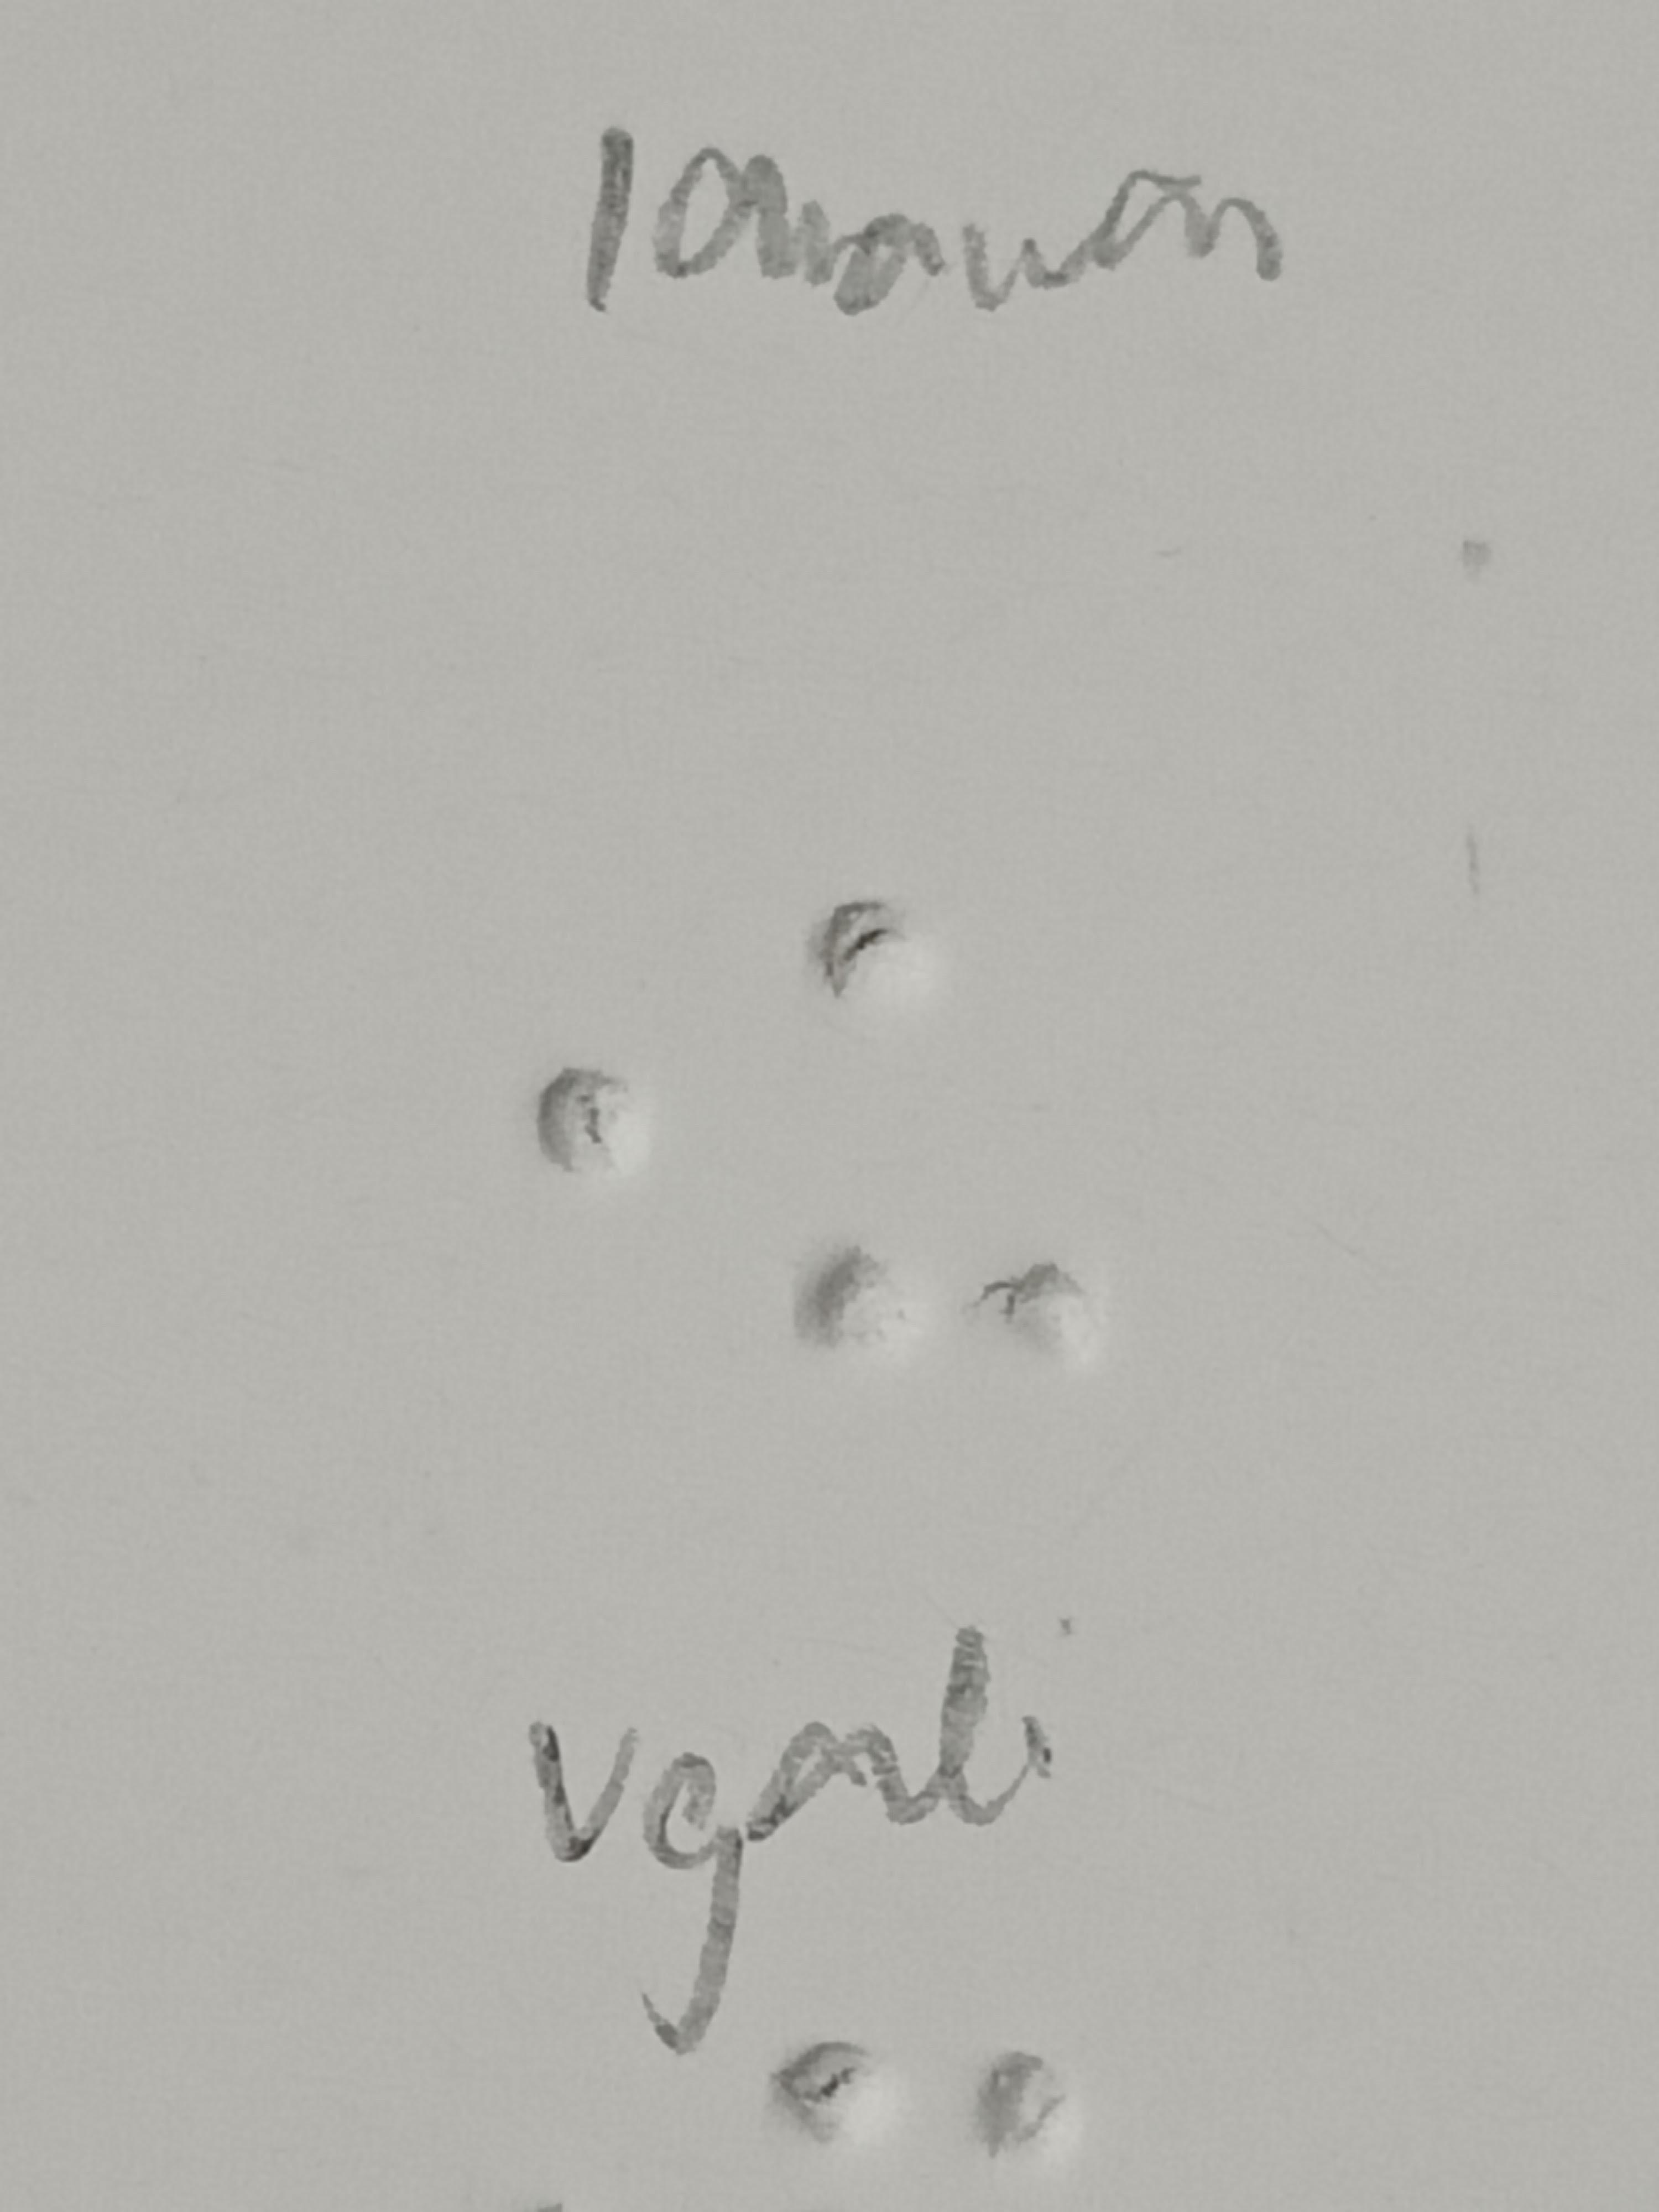dot_5: (371, 878, 655, 1371)
two_cell_alphabet_ugali: (814, 887, 1098, 1379)
